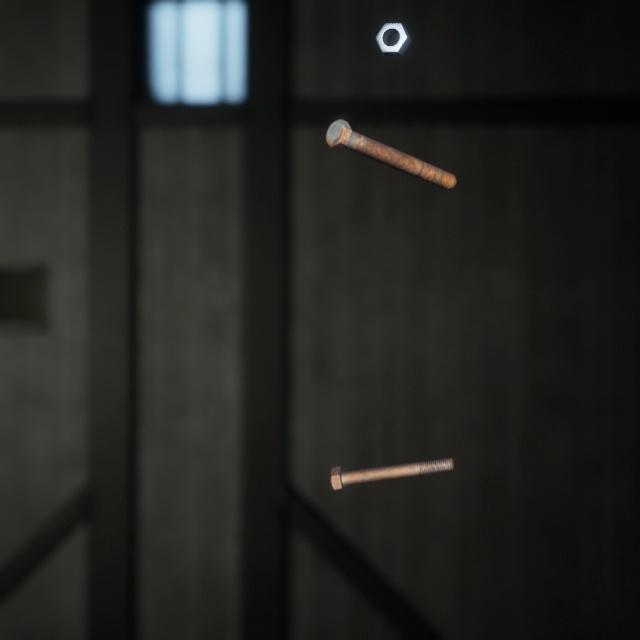bolt: (321, 101, 461, 181), (325, 433, 459, 478)
nut: (371, 10, 415, 52)
